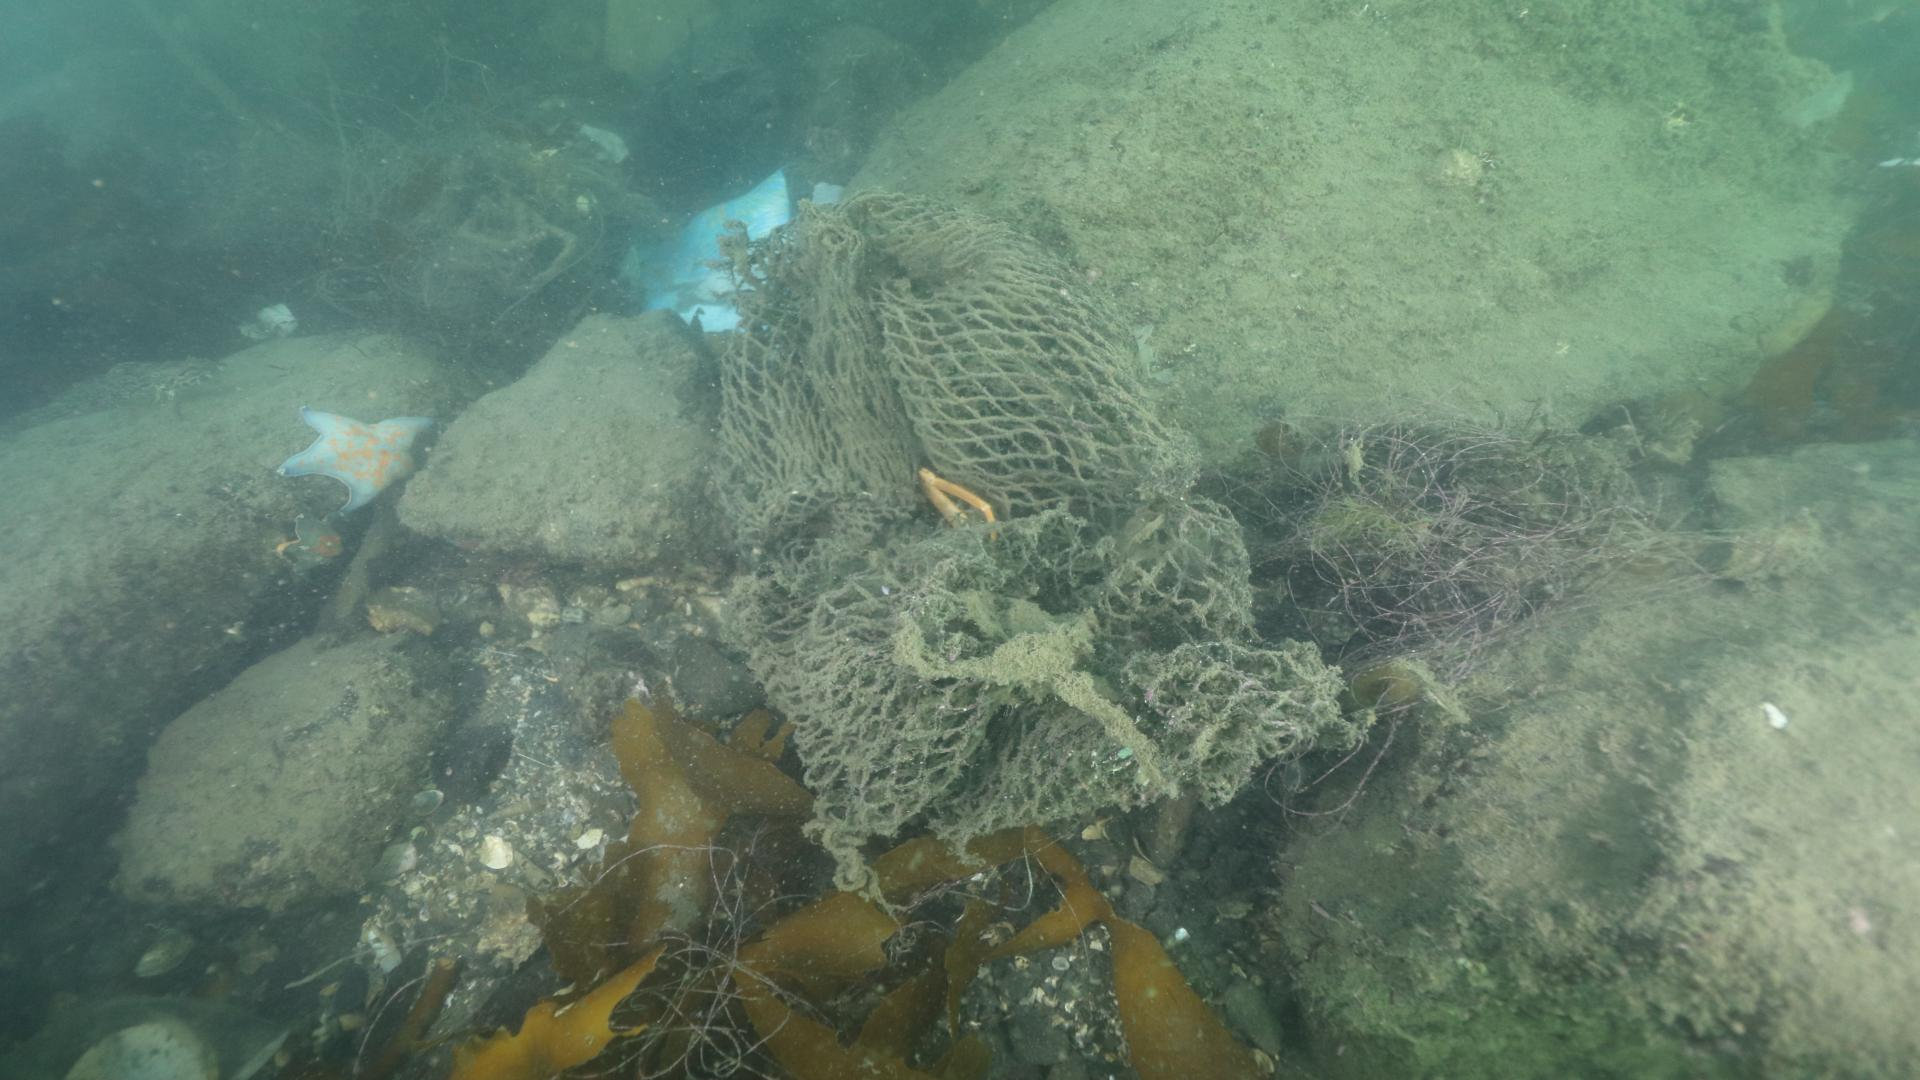fish net: (703, 194, 1338, 839)
